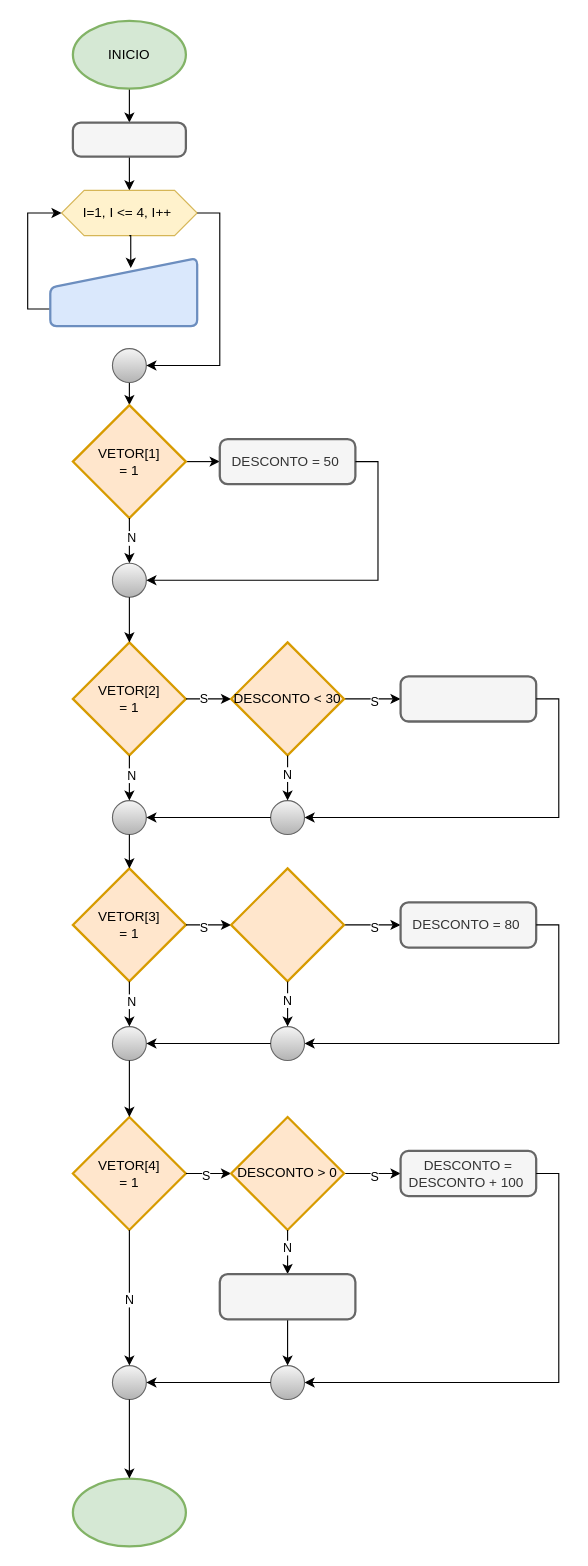
The diagram is 588 pixels wide and 1566 high, and some of its shapes have lost their labels. The shapes that lost their labels are listed below. From the top down, each one's centre as x and y in pixels, then its label:
At [128,139]: "VETOR[4] DESCONTO = 0".
At [123,292]: "VETOR[I] = ESCOLHA ( 0 - 1 )".
At [468,698]: "DESCONTO = 30".
At [287,924]: "DESCONTO < 80".
At [287,1296]: "DESCONTO = 100".
At [128,1512]: "FIM".
